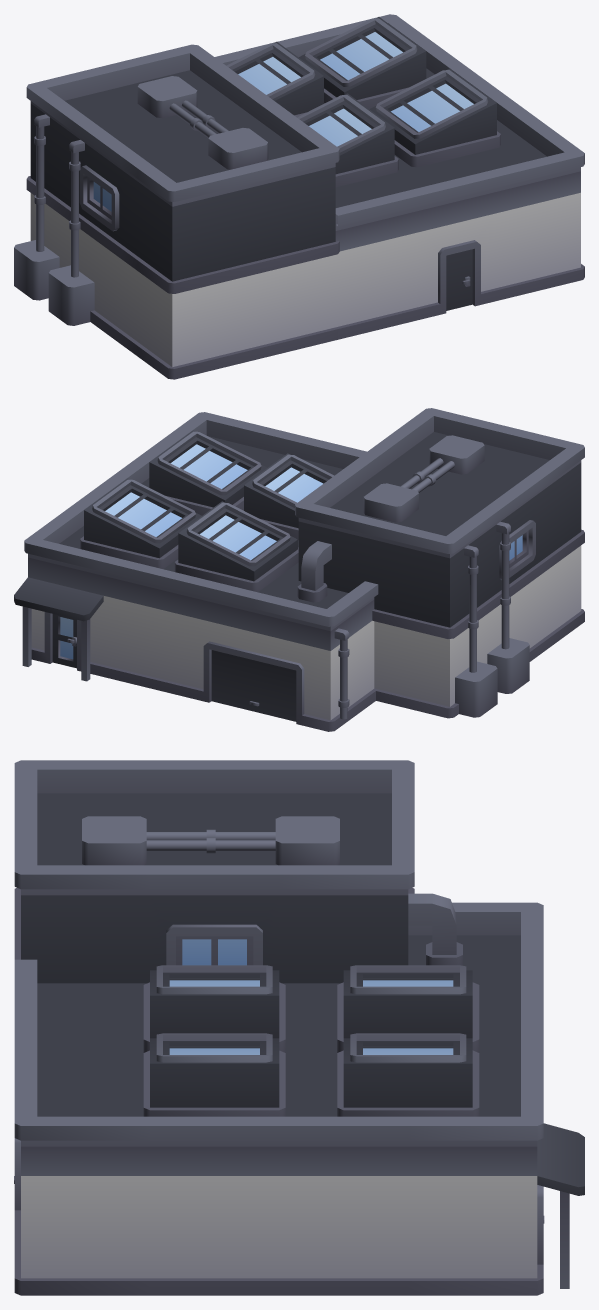
The model's file is building-q.glb.
3 views of the same model, one above another, from view 1: azimuth 30°, elevation 25°; view 2: azimuth 150°, elevation 25°; view 3: azimuth 270°, elevation 25° (orthographic). The views are drawn at different scales.
Visible parts, largest first — view 1: building-q; view 2: building-q; view 3: building-q.
Part boxes in pixels (x1=…): building-q: x1=14, y1=14, x2=584, y2=379; building-q: x1=14, y1=408, x2=584, y2=731; building-q: x1=14, y1=760, x2=584, y2=1295.
Size of the model in its own units: 2.14 by 0.88 by 1.77.
